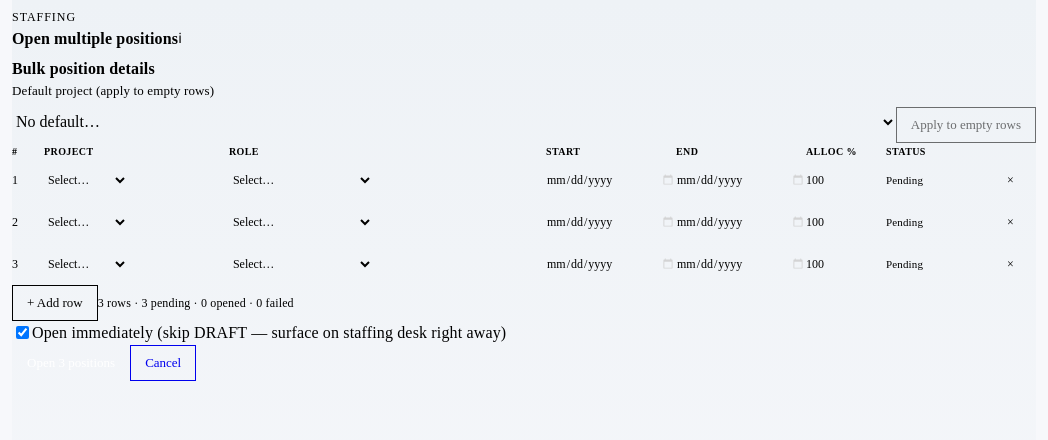
Test: BulkCreatePositionsPage (W2-05) › add row + remove row keep at least one row
Expected: the dropdown with test id "bulk-create-row-0-project" is shown, [44,159,128,201]
Click the button with test id "bulk-create-add-row" at (55, 303), box [12,285,98,321]
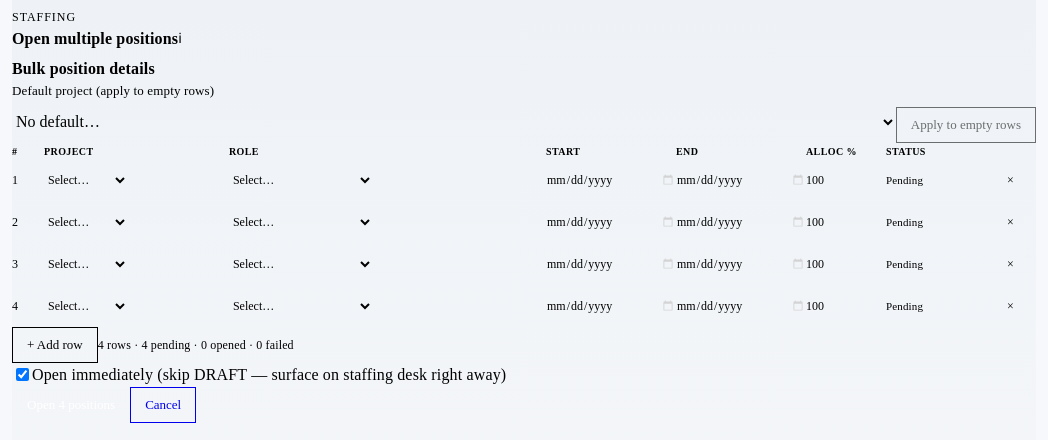
Result: the dropdown with test id "bulk-create-row-3-project" is shown at [44,285,128,327]
Remove three rows — guard prevents going below one.
Click the button with test id "bulk-create-row-3-remove" at (1010, 306), box [996,292,1025,320]
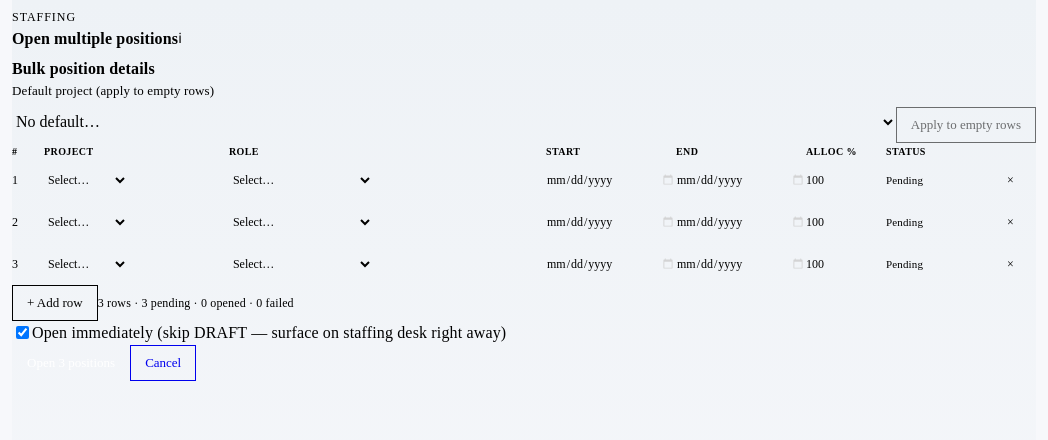
Click the button with test id "bulk-create-row-2-remove" at (1010, 264), box [996,250,1025,278]
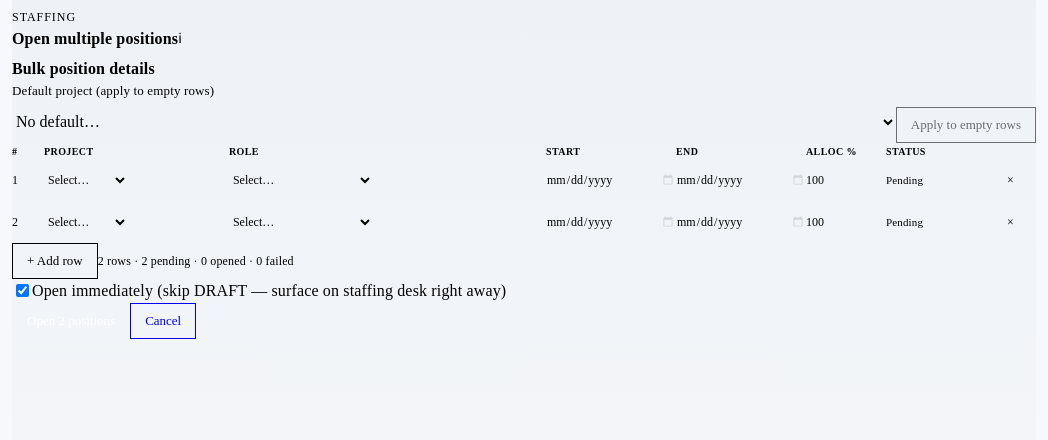
Click the button with test id "bulk-create-row-1-remove" at (1010, 222), box [996,208,1025,236]
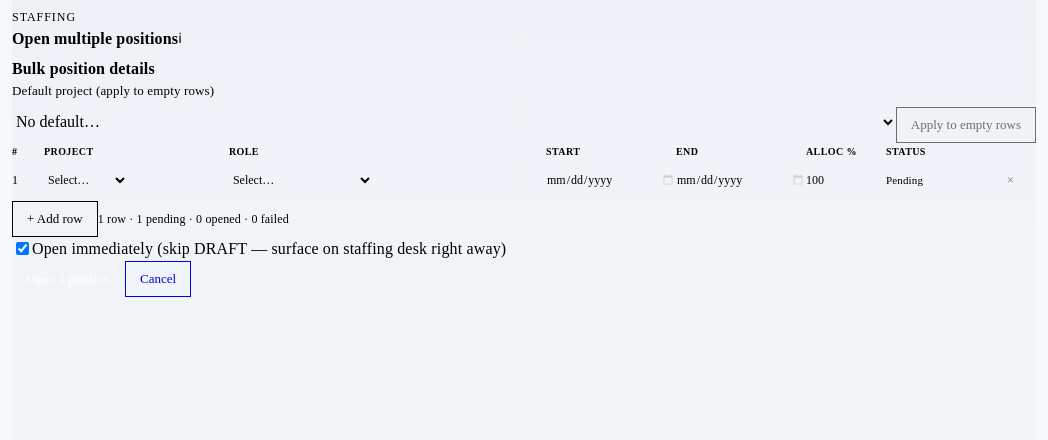
Expected: the button with test id "bulk-create-row-0-remove" is disabled, [996,166,1025,194]
Result: the dropdown with test id "bulk-create-row-1-project" is gone
